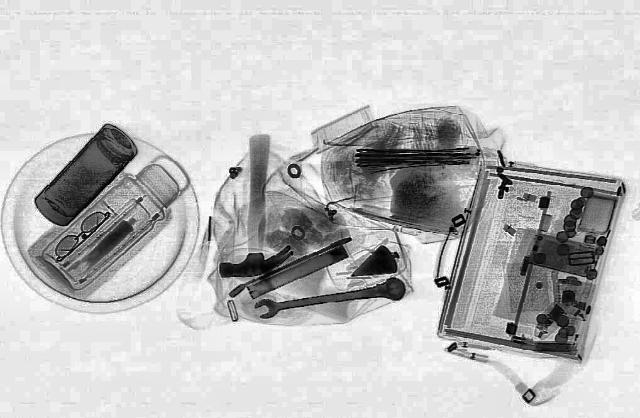Wrench: (248, 276, 410, 322)
